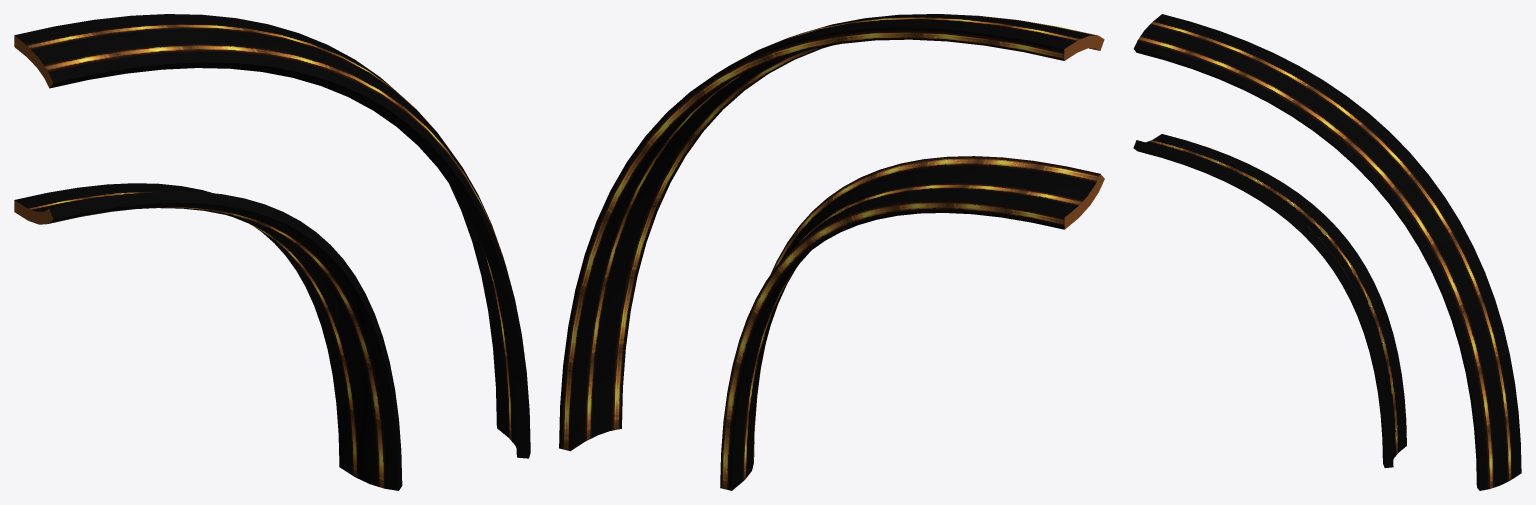
File: SAMRTrack-032_top.fbx
The picture shows the model from 3 angles, left to right: view 1: azimuth 30°, elevation 25°; view 2: azimuth 150°, elevation 25°; view 3: azimuth 330°, elevation 25°; orthographic projection. The views are drawn at different scales.
Visible parts, largest first — view 1: SAMRTrack-032_top; view 2: SAMRTrack-032_top; view 3: SAMRTrack-032_top.
Boxes of the visible parts, x1,y1,x2,y2 form: SAMRTrack-032_top: (14, 14, 530, 490); SAMRTrack-032_top: (559, 14, 1104, 490); SAMRTrack-032_top: (1133, 14, 1521, 490).
Size of the model in its own units: 8437 by 8342 by 1167.
2 materials, 2 textured.
